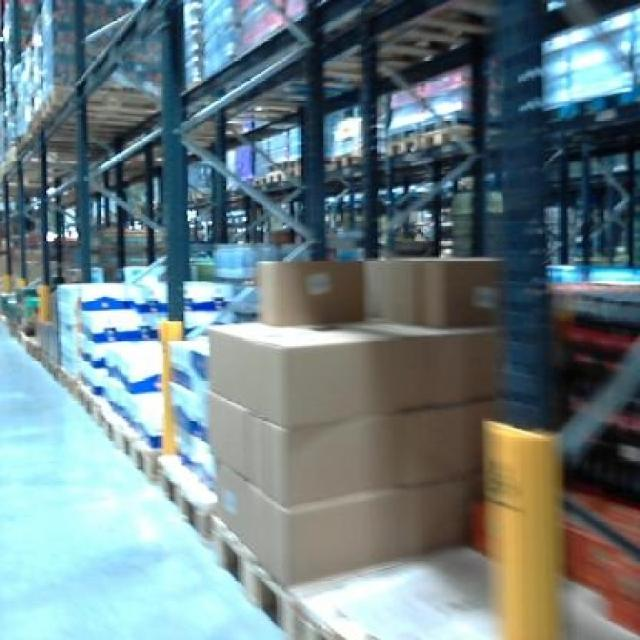pallets: (208, 322, 489, 582)
